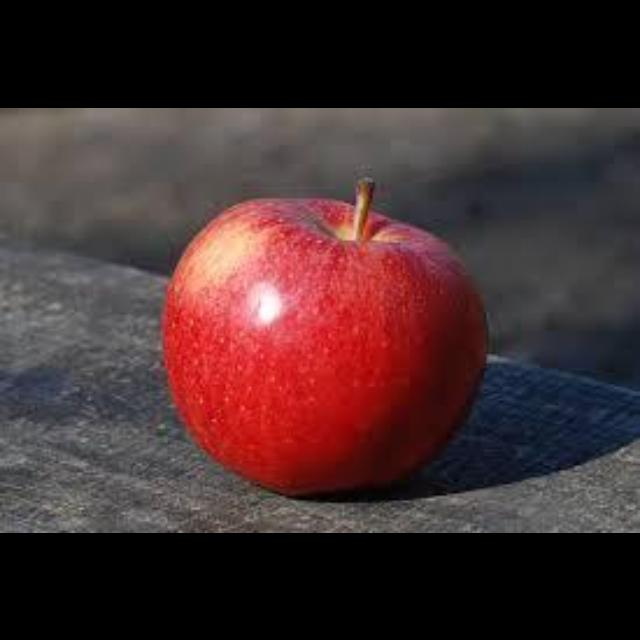apple: (163, 177, 486, 493)
